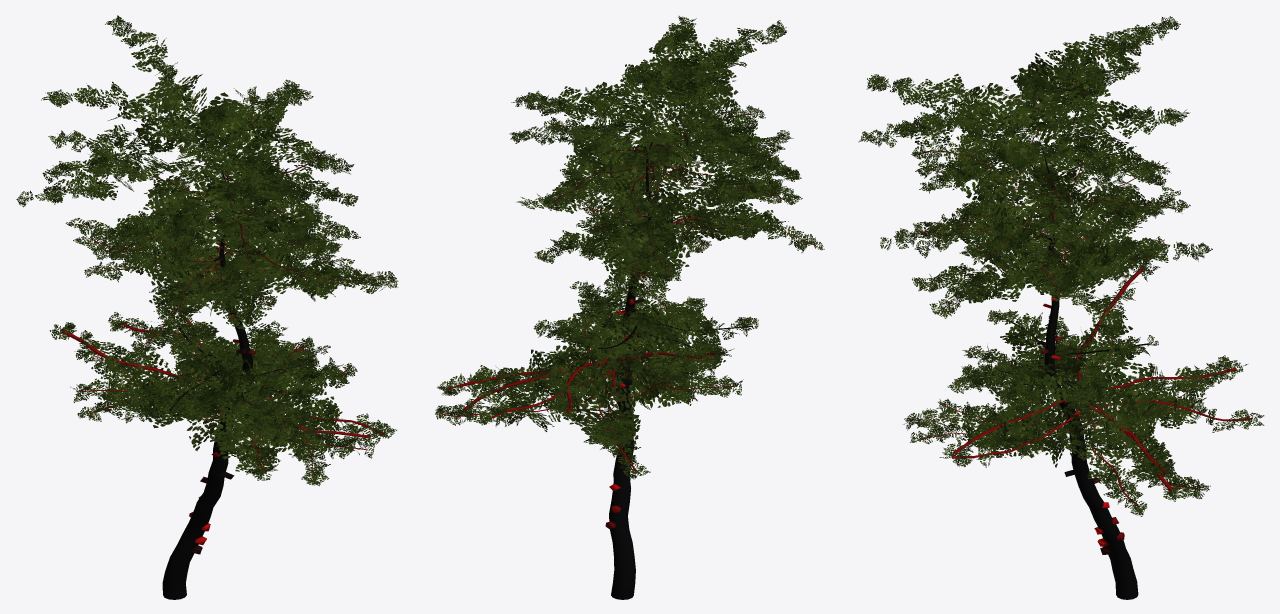
The picture shows the model from 3 angles, left to right: view 1: azimuth 30°, elevation 25°; view 2: azimuth 150°, elevation 25°; view 3: azimuth 270°, elevation 25°; orthographic projection. The views are drawn at different scales.
Parts seen in each view (by area): view 1: Tree201; view 2: Tree201; view 3: Tree201.
Part boxes in pixels (box(x1,y1,x2,y2)): Tree201: box(16, 15, 398, 599); Tree201: box(435, 16, 824, 599); Tree201: box(858, 16, 1264, 599).
Bounding box in the file's own units: 10 × 15 × 10.
